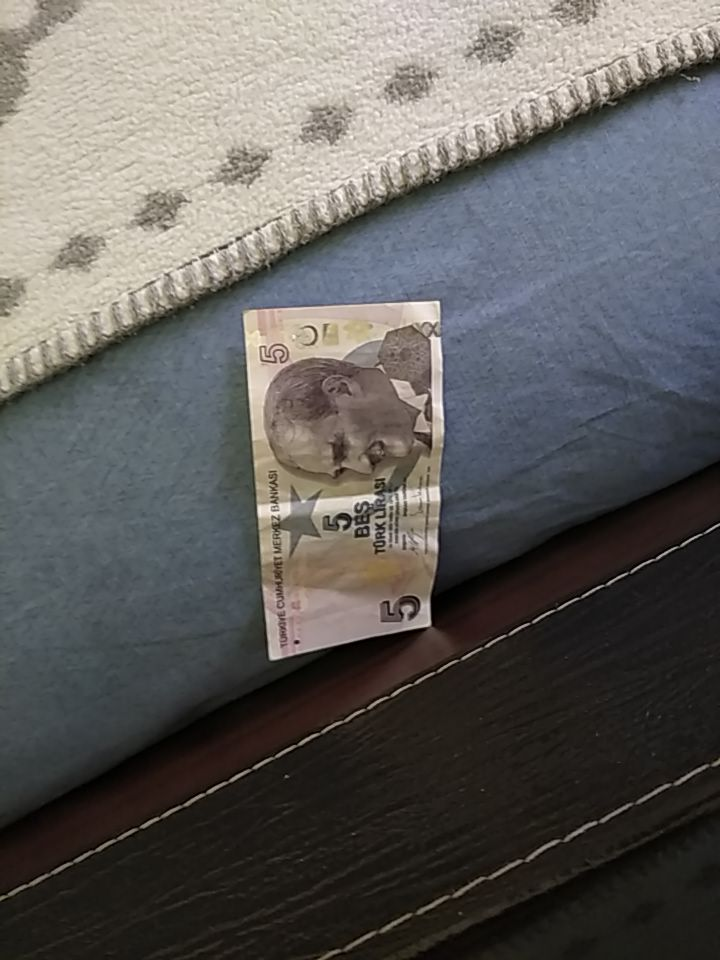5TL: (241, 297, 444, 663)
